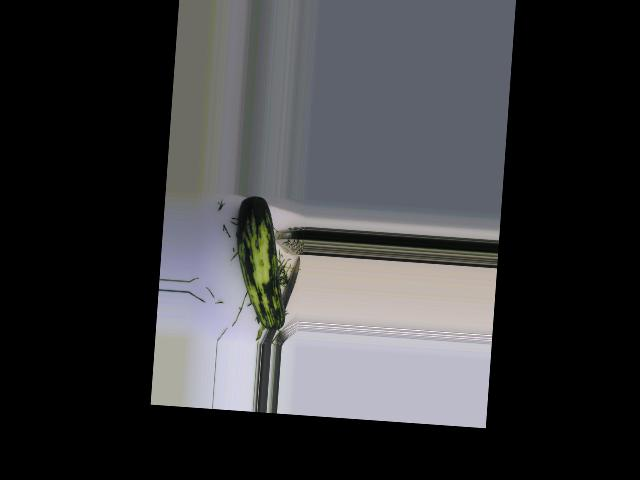cucumber: (229, 195, 293, 331)
